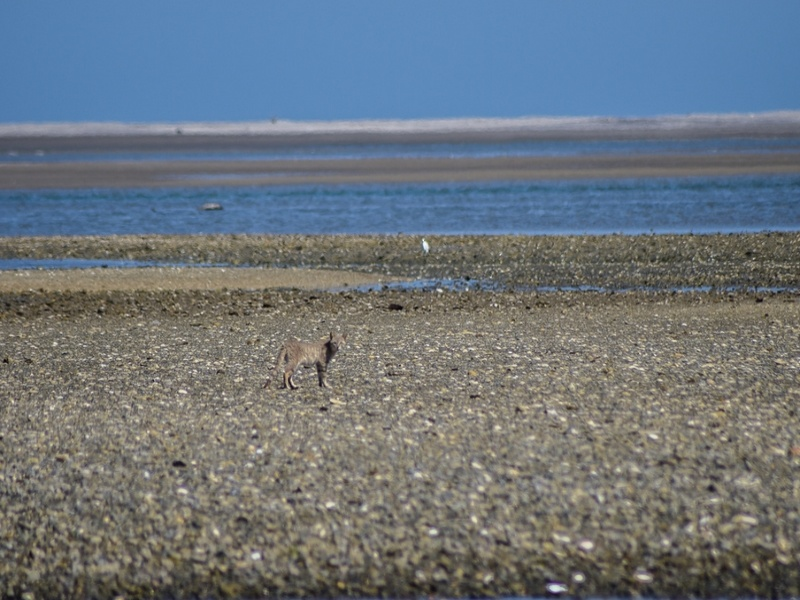cat: (276, 331, 346, 392)
